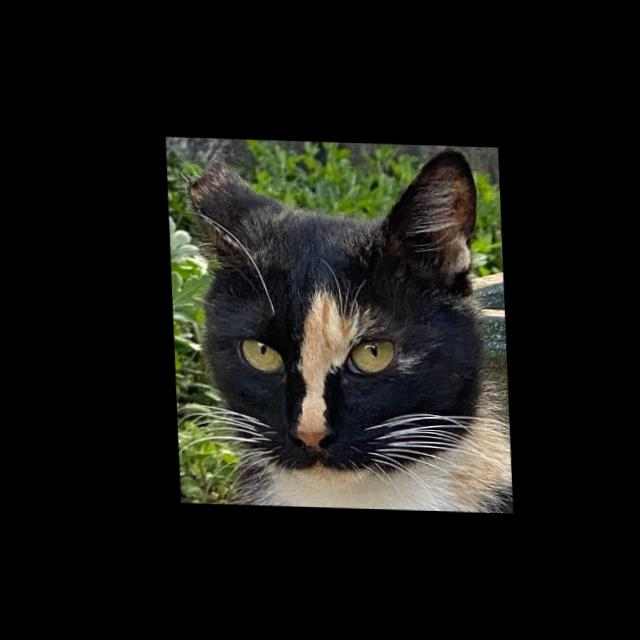animals: (175, 136, 502, 475)
